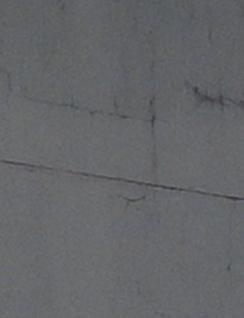termicas: (8, 56, 172, 208), (182, 54, 244, 128)
